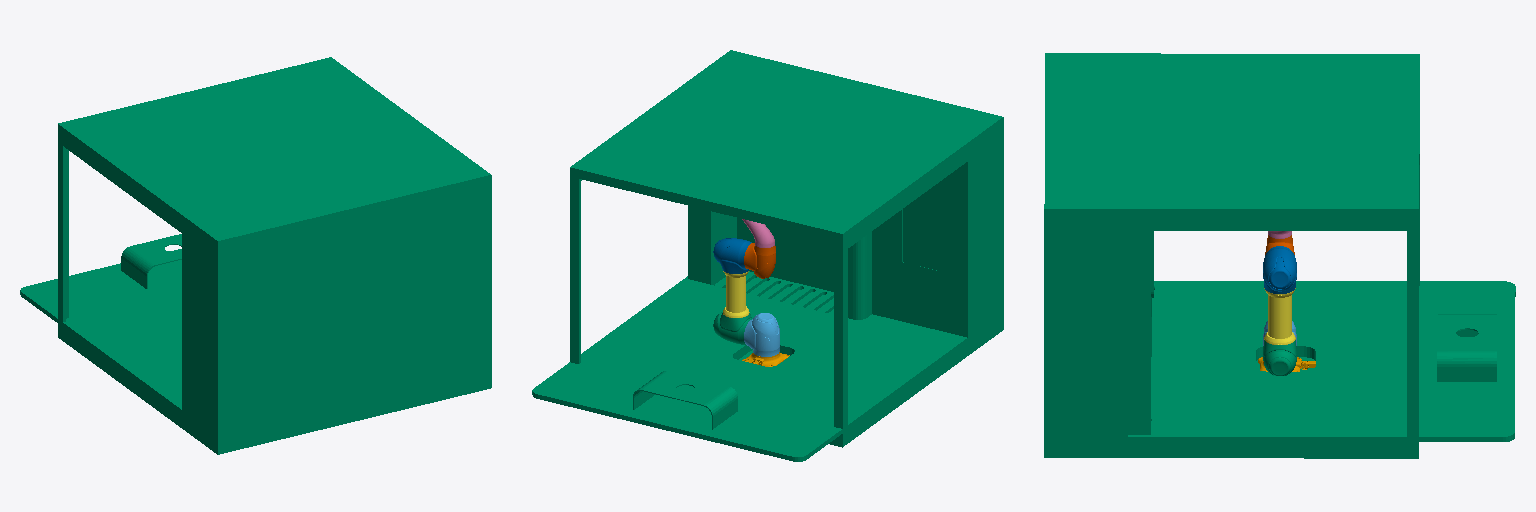
URDF robot description (M0609):
<?xml version='1.0' encoding='utf-8'?>
<robot name="M0609">
    <link name="MODULE.1_Base_Giunto_Test">
        <inertial>
            <origin xyz="-0.19242243582239288 0.013495042662391127 0.10946753796965804" rpy="0.0 0.0 0.0" />
            <mass value="0.0" />
            <inertia ixx="0.0" iyy="0.0" izz="0.0" ixy="0.0" iyz="0.0" ixz="0.0" />
        </inertial>
        <visual name="MODULE.1_Base_Giunto_Test_visual">
            <origin xyz="0.0 0.0 0.0" rpy="0.0 0.0 0.0" />
            <geometry>
                <mesh filename="meshes/MODULE.1_Base_Giunto_Test.stl" scale="0.001 0.001 0.001" />
            </geometry>
        </visual>
        <collision name="MODULE.1_Base_Giunto_Test_collision">
            <origin xyz="0.0 0.0 0.0" rpy="0.0 0.0 0.0" />
            <geometry>
                <mesh filename="meshes/MODULE.1_Base_Giunto_Test.stl" scale="0.001 0.001 0.001" />
            </geometry>
        </collision>
    </link>
    <link name="MODULE.1_Giunto_1_test">
        <inertial>
            <origin xyz="-0.19242244 -0.01349504 -0.05796722" rpy="0.0 -0.0 7.486008491288217e-106" />
            <mass value="0.0" />
            <inertia ixx="0.0" iyy="0.0" izz="0.0" ixy="0.0" iyz="0.0" ixz="0.0" />
        </inertial>
        <visual name="MODULE.1_Giunto_1_test_visual">
            <origin xyz="1.7351798632603278e-07 2.3412357030849762e-09 0.05300044071995415" rpy="3.141592631804885 1.0524540363563331e-10 -1.570796326794897" />
            <geometry>
                <mesh filename="meshes/MODULE.1_Giunto_1_test.stl" scale="0.001 0.001 0.001" />
            </geometry>
        </visual>
        <collision name="MODULE.1_Giunto_1_test_collision">
            <origin xyz="1.7351798632603278e-07 2.3412357030849762e-09 0.05300044071995415" rpy="3.141592631804885 1.0524540363563331e-10 -1.570796326794897" />
            <geometry>
                <mesh filename="meshes/MODULE.1_Giunto_1_test.stl" scale="0.001 0.001 0.001" />
            </geometry>
        </collision>
    </link>
    <link name="MODULE.1_Giunto_2_Test">
        <inertial>
            <origin xyz="0.2796224303934266 0.02403231008285004 -0.01349504170051221" rpy="0.0 1.0988181100555421e-24 2.465190328815662e-32" />
            <mass value="0.0" />
            <inertia ixx="0.0" iyy="0.0" izz="0.0" ixy="0.0" iyz="0.0" ixz="0.0" />
        </inertial>
        <visual name="MODULE.1_Giunto_2_Test_visual">
            <origin xyz="0.08819991125594254 0.13500000180240235 -6.293544938529294e-09" rpy="1.5707963547190957 1.570796320760014 0" />
            <geometry>
                <mesh filename="meshes/MODULE.1_Giunto_2_Test.stl" scale="0.001 0.001 0.001" />
            </geometry>
        </visual>
        <collision name="MODULE.1_Giunto_2_Test_collision">
            <origin xyz="0.08819991125594254 0.13500000180240235 -6.293544938529294e-09" rpy="1.5707963547190957 1.570796320760014 0" />
            <geometry>
                <mesh filename="meshes/MODULE.1_Giunto_2_Test.stl" scale="0.001 0.001 0.001" />
            </geometry>
        </collision>
    </link>
    <link name="MODULE.1_LINK.1">
        <inertial>
            <origin xyz="-0.3616219599999048 0.013492364845423021 -0.11123229941225515" rpy="0.0 -0.0 0.0" />
            <mass value="0.0" />
            <inertia ixx="0.0" iyy="0.0" izz="0.0" ixy="0.0" iyz="0.0" ixz="0.0" />
        </inertial>
        <visual name="MODULE.1_LINK.1_visual">
            <origin xyz="-0.17019943685979091 -1.1415401135472791e-09 -0.22220011732289444" rpy="-1.56370944994488e-08 -4.366568424914794e-08 1.5707962977419976" />
            <geometry>
                <mesh filename="meshes/MODULE.1_LINK.1.stl" scale="0.001 0.001 0.001" />
            </geometry>
        </visual>
        <collision name="MODULE.1_LINK.1_collision">
            <origin xyz="-0.17019943685979091 -1.1415401135472791e-09 -0.22220011732289444" rpy="-1.56370944994488e-08 -4.366568424914794e-08 1.5707962977419976" />
            <geometry>
                <mesh filename="meshes/MODULE.1_LINK.1.stl" scale="0.001 0.001 0.001" />
            </geometry>
        </collision>
    </link>
    <link name="MODULE.1_Giunto_3_Test">
        <inertial>
            <origin xyz="-0.361622 0.013492390000000002 -0.34783223999999996" rpy="0.0 -0.0 0.0" />
            <mass value="0.0" />
            <inertia ixx="0.0" iyy="0.0" izz="0.0" ixy="0.0" iyz="0.0" ixz="0.0" />
        </inertial>
        <visual name="MODULE.1_Giunto_3_Test_visual">
            <origin xyz="-0.17019942688242912 2.6776007770989984e-06 -0.4588001589848408" rpy="-1.5637169841787008e-08 -1.0438951097182845e-10 1.5707962977419982" />
            <geometry>
                <mesh filename="meshes/MODULE.1_Giunto_3_Test.stl" scale="0.001 0.001 0.001" />
            </geometry>
        </visual>
        <collision name="MODULE.1_Giunto_3_Test_collision">
            <origin xyz="-0.17019942688242912 2.6776007770989984e-06 -0.4588001589848408" rpy="-1.5637169841787008e-08 -1.0438951097182845e-10 1.5707962977419982" />
            <geometry>
                <mesh filename="meshes/MODULE.1_Giunto_3_Test.stl" scale="0.001 0.001 0.001" />
            </geometry>
        </collision>
    </link>
    <link name="MODULE.1_Giunto_4_Test">
        <inertial>
            <origin xyz="0.2796224699985163 -0.4350322297889449 0.013489716837102143" rpy="0.0 1.0735974634444793e-27 0.0" />
            <mass value="0.0" />
            <inertia ixx="0.0" iyy="0.0" izz="0.0" ixy="0.0" iyz="0.0" ixz="0.0" />
        </inertial>
        <visual name="MODULE.1_Giunto_4_Test_visual">
            <origin xyz="0.08719964503562874 -0.546000143902197 1.9391085950282163e-08" rpy="-1.5707963424320661 -1.5707962936507167 0" />
            <geometry>
                <mesh filename="meshes/MODULE.1_Giunto_4_Test.stl" scale="0.001 0.001 0.001" />
            </geometry>
        </visual>
        <collision name="MODULE.1_Giunto_4_Test_collision">
            <origin xyz="0.08719964503562874 -0.546000143902197 1.9391085950282163e-08" rpy="-1.5707963424320661 -1.5707962936507167 0" />
            <geometry>
                <mesh filename="meshes/MODULE.1_Giunto_4_Test.stl" scale="0.001 0.001 0.001" />
            </geometry>
        </collision>
    </link>
    <link name="MODULE.1_Link_2">
        <inertial>
            <origin xyz="0.19862265116128439 0.013489718119902794 0.5189889893445091" rpy="3.308722450212111e-24 -4.1359030627651384e-25 0.0" />
            <mass value="0.0" />
            <inertia ixx="0.0" iyy="0.0" izz="0.0" ixy="0.0" iyz="0.0" ixz="0.0" />
        </inertial>
        <visual name="MODULE.1_Link_2_visual">
            <origin xyz="0.006199856623504161 2.1854072491667155e-08 0.6304505536650948" rpy="3.1415926324852266 1.838927732358647e-08 1.5707963558477973" />
            <geometry>
                <mesh filename="meshes/MODULE.1_Link_2.stl" scale="0.001 0.001 0.001" />
            </geometry>
        </visual>
        <collision name="MODULE.1_Link_2_collision">
            <origin xyz="0.006199856623504161 2.1854072491667155e-08 0.6304505536650948" rpy="3.1415926324852266 1.838927732358647e-08 1.5707963558477973" />
            <geometry>
                <mesh filename="meshes/MODULE.1_Link_2.stl" scale="0.001 0.001 0.001" />
            </geometry>
        </collision>
    </link>
    <link name="MODULE.1_Giunto_5_Test">
        <inertial>
            <origin xyz="0.3445736297037857 -0.013489715856294993 -0.7374383600312812" rpy="0.0 -0.0 0.0" />
            <mass value="0.0" />
            <inertia ixx="0.0" iyy="0.0" izz="0.0" ixy="0.0" iyz="0.0" ixz="0.0" />
        </inertial>
        <visual name="MODULE.1_Giunto_5_Test_visual">
            <origin xyz="0.14711487802300813 -0.002068634882626166 -0.8512648403193245" rpy="-3.1685241183956177e-08 -1.028338452817359e-08 -1.5707963558477975" />
            <geometry>
                <mesh filename="meshes/MODULE.1_Giunto_5_Test.stl" scale="0.001 0.001 0.001" />
            </geometry>
        </visual>
        <collision name="MODULE.1_Giunto_5_Test_collision">
            <origin xyz="0.14711487802300813 -0.002068634882626166 -0.8512648403193245" rpy="-3.1685241183956177e-08 -1.028338452817359e-08 -1.5707963558477975" />
            <geometry>
                <mesh filename="meshes/MODULE.1_Giunto_5_Test.stl" scale="0.001 0.001 0.001" />
            </geometry>
        </collision>
    </link>
    <link name="MODULE.1_Giunto_6_Test">
        <inertial>
            <origin xyz="0.28365951842075393 0.8001731900672566 -0.011421104510842422" rpy="0.0 -4.79509716152183e-24 9.860761315262648e-32" />
            <mass value="0.0" />
            <inertia ixx="0.0" iyy="0.0" izz="0.0" ixy="0.0" iyz="0.0" ixz="0.0" />
        </inertial>
        <visual name="MODULE.1_Giunto_6_Test_visual">
            <origin xyz="0.08520046854875837 0.9139996607567459 6.297028882773503e-09" rpy="1.570796292631261 1.5707961666104695 0" />
            <geometry>
                <mesh filename="meshes/MODULE.1_Giunto_6_Test.stl" scale="0.001 0.001 0.001" />
            </geometry>
        </visual>
        <collision name="MODULE.1_Giunto_6_Test_collision">
            <origin xyz="0.08520046854875837 0.9139996607567459 6.297028882773503e-09" rpy="1.570796292631261 1.5707961666104695 0" />
            <geometry>
                <mesh filename="meshes/MODULE.1_Giunto_6_Test.stl" scale="0.001 0.001 0.001" />
            </geometry>
        </collision>
    </link>
    <link name="MODULE.1_FLANGE-END">
        <inertial>
            <origin xyz="0.204659520090475 0.011421062453242686 0.860629200078635" rpy="0.0 -0.0 0.0" />
            <mass value="0.0" />
            <inertia ixx="0.0" iyy="0.0" izz="0.0" ixy="0.0" iyz="0.0" ixz="0.0" />
        </inertial>
        <visual name="MODULE.1_FLANGE-END_visual">
            <origin xyz="0.006199838842083274 3.084153392673983e-09 0.9755000772267036" rpy="3.1415926283001623 -6.321774450045751e-09 1.5707963486654406" />
            <geometry>
                <mesh filename="meshes/MODULE.1_FLANGE-END.stl" scale="0.001 0.001 0.001" />
            </geometry>
        </visual>
        <collision name="MODULE.1_FLANGE-END_collision">
            <origin xyz="0.006199838842083274 3.084153392673983e-09 0.9755000772267036" rpy="3.1415926283001623 -6.321774450045751e-09 1.5707963486654406" />
            <geometry>
                <mesh filename="meshes/MODULE.1_FLANGE-END.stl" scale="0.001 0.001 0.001" />
            </geometry>
        </collision>
    </link>
    <link name="MODULE.1_scatola_orientata">
        <inertial>
            <origin xyz="-0.0020825691235483654 0.5296382518428322 0.0" rpy="0.0 0.0 0.0" />
            <mass value="7263.433017326266" />
            <inertia ixx="26976151.137528095" iyy="26731205.441222787" izz="29748565.654636983" ixy="-139230.63592764104" iyz="-2775428.8271235703" ixz="522280.98508410837" />
        </inertial>
        <visual name="MODULE.1_scatola_orientata_visual">
            <origin xyz="0.0 0.0 0.0" rpy="0.0 0.0 0.0" />
            <geometry>
                <mesh filename="meshes/MODULE.1_scatola_orientata.stl" scale="0.001 0.001 0.001" />
            </geometry>
        </visual>
        <collision name="MODULE.1_scatola_orientata_collision">
            <origin xyz="0.0 0.0 0.0" rpy="0.0 0.0 0.0" />
            <geometry>
                <mesh filename="meshes/MODULE.1_scatola_orientata.stl" scale="0.001 0.001 0.001" />
            </geometry>
        </collision>
    </link>
    <joint name="MODULE.1_Base_Giunto_Test_Rivoluzione-14" type="revolute">
        <origin xyz="4.177606669486522e-09 2.6623910986955935e-09 0.051500317969658066" rpy="3.141592653589793 7.112366251504899e-17 4.0221698574279385e-24" />
        <parent link="MODULE.1_Base_Giunto_Test" />
        <child link="MODULE.1_Giunto_1_test" />
        <axis xyz="1.232595164407831e-32 0.0 1.0" />
        <limit lower="0" upper="6.283185" effort="1000000" velocity="1000000" />
    </joint>
    <joint name="MODULE.1_Giunto_1_test_Rivoluzione-15" type="revolute">
        <origin xyz="0.08719999000000002 9.999999999177334e-09 -0.08199953000000001" rpy="1.5707963206556053 1.7898125956067532e-16 -3.1415926244363863" />
        <parent link="MODULE.1_Giunto_1_test" />
        <child link="MODULE.1_Giunto_2_Test" />
        <axis xyz="-0.9999999999999996 -1.2924721723044257e-26 -2.9153406718053887e-08" />
        <limit lower="0.0" upper="6.283185" effort="1000000" velocity="1000000" />
    </joint>
    <joint name="MODULE.1_LINK.1_Rigido-21" type="fixed">
        <origin xyz="3.9999797536438564e-08 -4.030659978671025e-08 0.23659993999999834" rpy="4.35612950157318e-08 -1.6559738763376225e-31 3.801479904900854e-24" />
        <parent link="MODULE.1_LINK.1" />
        <child link="MODULE.1_Giunto_3_Test" />
    </joint>
    <joint name="MODULE.1_Giunto_3_Test_Rivoluzione-23" type="revolute">
        <origin xyz="-0.08199952999999997 2.68000000000157e-06 0.08719999000000002" rpy="1.5707963424405134 -1.7208009109641183e-18 -3.1415926534798073" />
        <parent link="MODULE.1_Giunto_3_Test" />
        <child link="MODULE.1_Giunto_4_Test" />
        <axis xyz="1.0 -1.2924690020840616e-26 1.0998613364735714e-10" />
        <limit lower="0.0" upper="6.283185" effort="1000000" velocity="1000000" />
    </joint>
    <joint name="MODULE.1_Giunto_4_Test_Rivoluzione-18" type="revolute">
        <origin xyz="0.08099982000000001 0.08395676000000002 -1.3046464353294596e-09" rpy="1.5707963267948966 -1.0998613364735122e-10 -2.237589537389989e-09" />
        <parent link="MODULE.1_Giunto_4_Test" />
        <child link="MODULE.1_Link_2" />
        <axis xyz="2.237589537389989e-09 1.56456166774e-08 1.0" />
        <limit lower="-3.141593" upper="3.141593" effort="1000000" velocity="1000000" />
    </joint>
    <joint name="MODULE.1_Giunto_6_Test_Rivoluzione-20" type="revolute">
        <origin xyz="0.07899999999999917 -0.06045601000000005 -1.1279708171940684e-08" rpy="-1.570796329674971 1.3827461096225338e-07 1.0512658657800057e-10" />
        <parent link="MODULE.1_Giunto_6_Test" />
        <child link="MODULE.1_FLANGE-END" />
        <axis xyz="1.0512658657799958e-10 -8.768883643900007e-09 1.0" />
        <limit lower="-3.141593" upper="3.141593" effort="1000000" velocity="1000000" />
    </joint>
    <joint name="MODULE.1_Giunto_2_Test_Rigido-2" type="fixed">
        <origin xyz="-0.08199952999992156 -0.08719998999998348 -2.6929259117980386e-06" rpy="-1.570796376495483 2.915340671805389e-08 -3.141592653589793" />
        <parent link="MODULE.1_Giunto_2_Test" />
        <child link="MODULE.1_LINK.1" />
    </joint>
    <joint name="MODULE.1_Link_2_Rigido-3" type="fixed">
        <origin xyz="-0.1459509804888001 -3.417775107372734e-09 -0.2184493696734217" rpy="3.1415926458855794 2.6392696068349678e-09 -3.0946284631367187e-18" />
        <parent link="MODULE.1_Link_2" />
        <child link="MODULE.1_Giunto_5_Test" />
    </joint>
    <joint name="MODULE.1_Giunto_5_Test_Rivoluzione-4" type="revolute">
        <origin xyz="0.0609141100251993 -0.0020686395017974514 0.06273482999195991" rpy="-1.5707963406251084 4.016819818121469e-10 1.3827461096195065e-07" />
        <parent link="MODULE.1_Giunto_5_Test" />
        <child link="MODULE.1_Giunto_6_Test" />
        <axis xyz="-0.9999999999999905 8.271806134703601e-25 1.382746109619502e-07" />
        <limit lower="0.0" upper="6.283185" effort="1000000" velocity="1000000" />
    </joint>
    <joint name="MODULE.1_Base_Giunto_Test_Rigido-5" type="fixed">
        <origin xyz="0 0 -0.051500317969658066" rpy="-1.0616688818434631e-32 7.112366251504899e-17 3.14" />
        <parent link="MODULE.1_Base_Giunto_Test" />
        <child link="MODULE.1_scatola_orientata" />
    </joint>
</robot>

--- What the picture shows (computed from the rendered views, not written in the file) ---
3 views of the same robot in one strip: view 1: azimuth 30°, elevation 25°; view 2: azimuth 150°, elevation 25°; view 3: azimuth 270°, elevation 25° (orthographic).
Model M0609 with 11 links and 10 joints (6 revolute, 4 fixed), rooted at MODULE.1_Base_Giunto_Test, posed all joints at 0.
Links seen in each view (by area): view 1: MODULE.1_scatola_orientata; view 2: MODULE.1_scatola_orientata, MODULE.1_Giunto_1_test, MODULE.1_Giunto_3_Test, MODULE.1_LINK.1, MODULE.1_Giunto_4_Test, MODULE.1_Giunto_2_Test; view 3: MODULE.1_scatola_orientata, MODULE.1_Giunto_3_Test, MODULE.1_LINK.1, MODULE.1_Giunto_2_Test.
Boxes of the visible links, <box> form: MODULE.1_scatola_orientata: <box>20,57,491,454</box>; MODULE.1_scatola_orientata: <box>532,50,1003,461</box>; MODULE.1_Giunto_1_test: <box>744,313,779,356</box>; MODULE.1_Giunto_3_Test: <box>713,238,751,273</box>; MODULE.1_LINK.1: <box>723,271,749,317</box>; MODULE.1_Giunto_4_Test: <box>744,243,775,278</box>; MODULE.1_Giunto_2_Test: <box>713,312,751,344</box>; MODULE.1_scatola_orientata: <box>1044,53,1515,458</box>; MODULE.1_Giunto_3_Test: <box>1263,246,1296,293</box>; MODULE.1_LINK.1: <box>1264,288,1295,344</box>; MODULE.1_Giunto_2_Test: <box>1263,340,1296,375</box>.
Bounding box of the posed robot: 1.54 × 1.97 × 1.15 m (x, y, z).
Meshes: 11 distinct files referenced, 10 mesh visuals loaded (10 binary STL); not drawn: 1 (reference not matched to a file when rendering).
